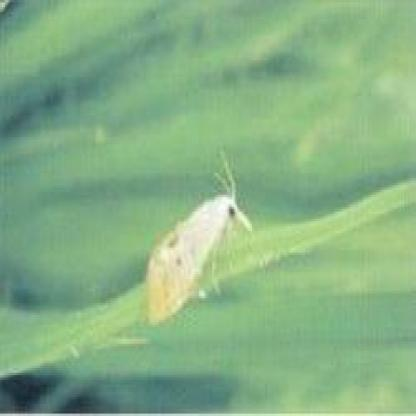stem-borer: (146, 152, 254, 330)
